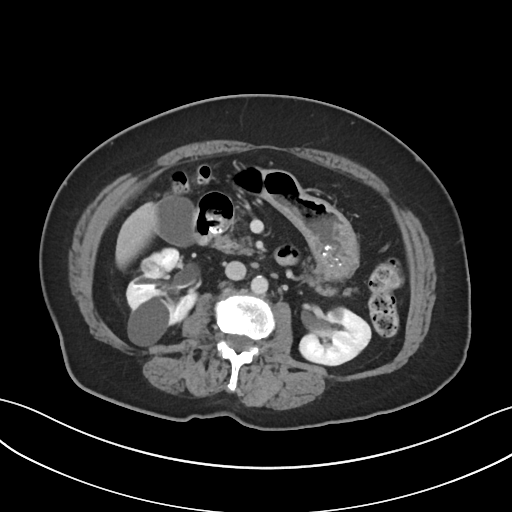Lesion: (127, 294, 171, 346), (140, 258, 167, 280)
